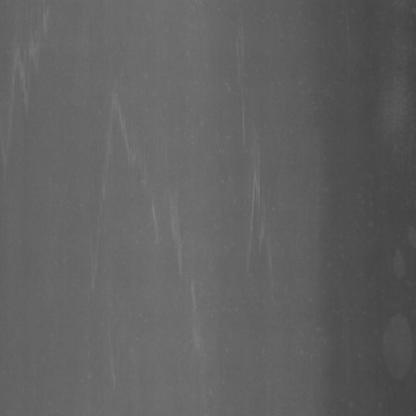silk_spot: (224, 92, 280, 276), (140, 169, 196, 274), (94, 92, 152, 186)
